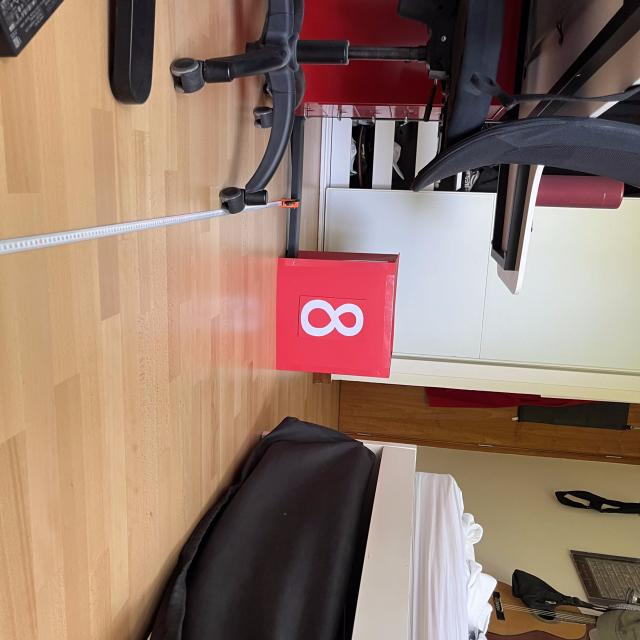box: (270, 247, 402, 381)
